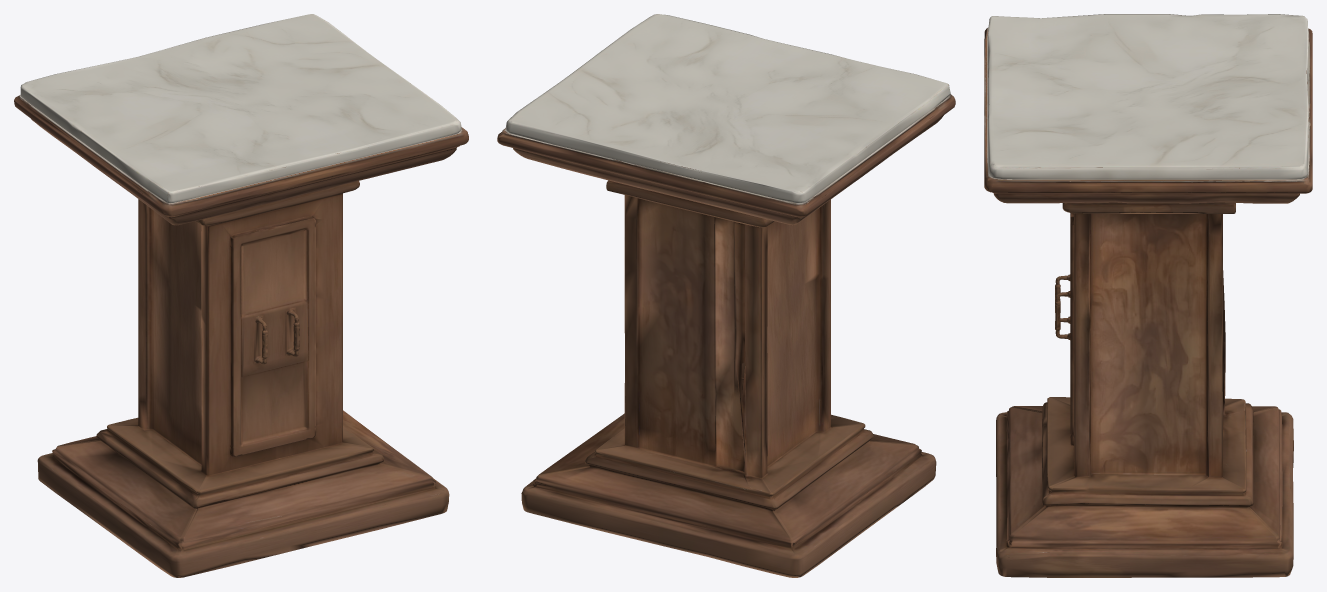
The model's file is bell-pedestal.glb.
3 renders of one model, left to right at view 1: azimuth 30°, elevation 25°; view 2: azimuth 150°, elevation 25°; view 3: azimuth 270°, elevation 25°, orthographic. The views are drawn at different scales.
Parts seen in each view (by area): view 1: tripo_node_582737f6-957e-41eb-be59-cf640b386611; view 2: tripo_node_582737f6-957e-41eb-be59-cf640b386611; view 3: tripo_node_582737f6-957e-41eb-be59-cf640b386611.
Part boxes in pixels (box(x1,y1,x2,y2)): tripo_node_582737f6-957e-41eb-be59-cf640b386611: box(14, 14, 468, 577); tripo_node_582737f6-957e-41eb-be59-cf640b386611: box(497, 14, 955, 577); tripo_node_582737f6-957e-41eb-be59-cf640b386611: box(984, 14, 1312, 577).
Bounding box in the file's own units: 0.64 × 0.7796 × 0.56.
Materials: 1 (1 with a texture image).
